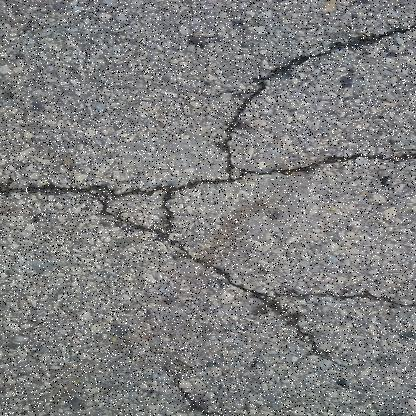Cracks: (85, 177, 416, 416), (0, 14, 416, 203)
